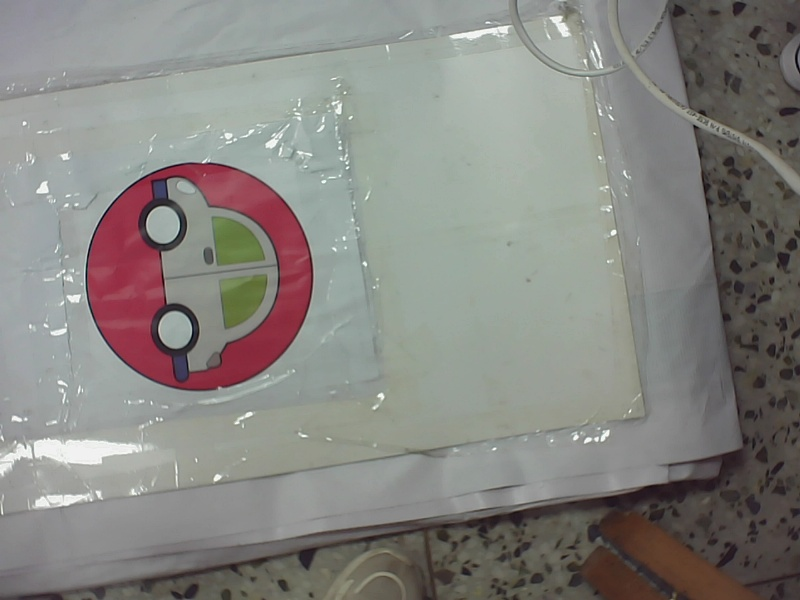areaC: (70, 157, 338, 399)
